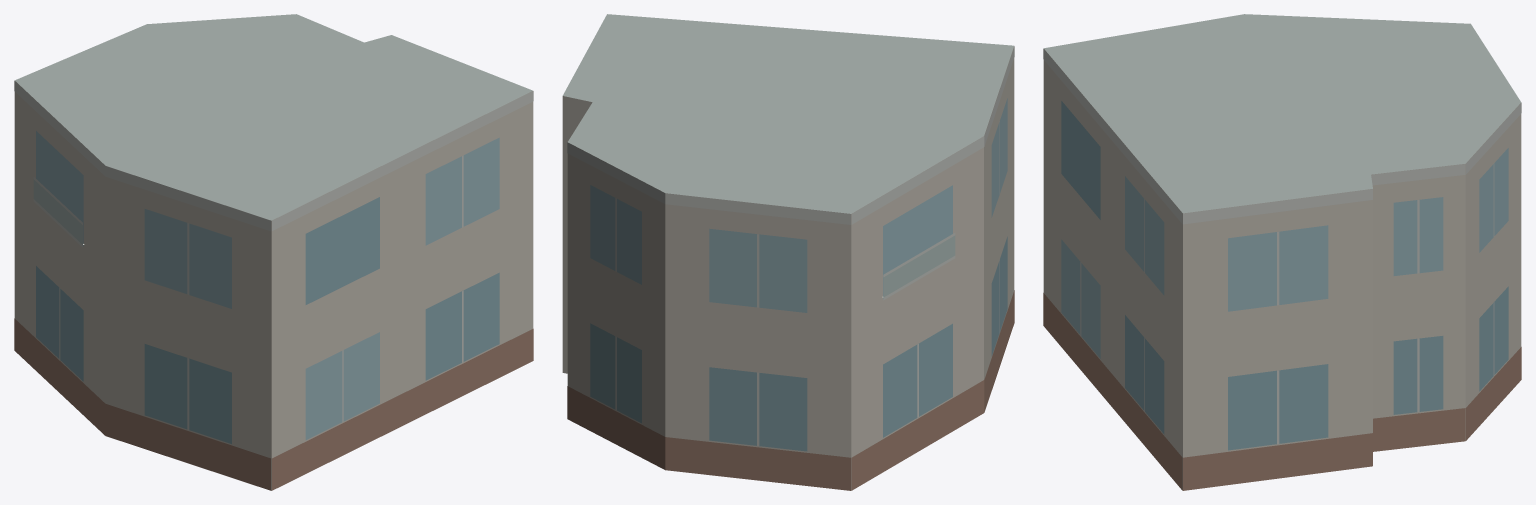
The model's file is survey-upis-32913065.glb.
3 renders of one model, left to right at view 1: azimuth 30°, elevation 25°; view 2: azimuth 150°, elevation 25°; view 3: azimuth 270°, elevation 25°, orthographic. The views are drawn at different scales.
Parts seen in each view (by area): view 1: survey-upis-32913065.tmp; view 2: survey-upis-32913065.tmp; view 3: survey-upis-32913065.tmp.
Boxes of the visible parts, box(x1,y1,x2,y2) form: survey-upis-32913065.tmp: box(14, 14, 533, 490); survey-upis-32913065.tmp: box(562, 14, 1014, 490); survey-upis-32913065.tmp: box(1043, 14, 1521, 490).
Bounding box in the file's own units: 9.41 × 6.1 × 9.53.
